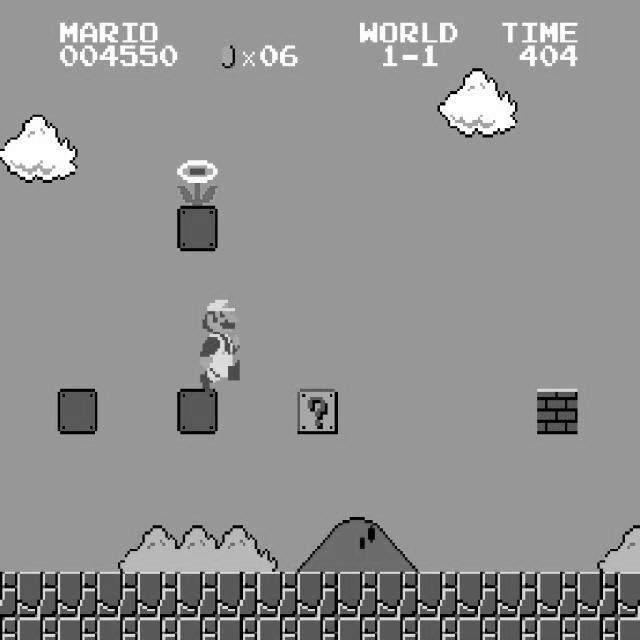1- brick_block: (537, 388, 578, 434)
13- mystery_block: (297, 388, 338, 434)
17- undestructible_block: (17, 572, 58, 618), (57, 572, 98, 618), (97, 572, 138, 618), (137, 572, 178, 618), (177, 572, 218, 618), (217, 572, 258, 618), (257, 572, 298, 618), (297, 572, 338, 618), (337, 572, 378, 618), (377, 572, 418, 618), (417, 572, 458, 618), (457, 572, 498, 618), (497, 572, 538, 618), (537, 572, 578, 618), (577, 572, 618, 618), (618, 572, 640, 618), (17, 617, 58, 640), (57, 617, 98, 640), (97, 617, 138, 640), (137, 617, 178, 640), (177, 617, 218, 640), (217, 617, 258, 640), (257, 617, 298, 640), (297, 617, 338, 640), (337, 617, 378, 640), (377, 617, 418, 640), (417, 617, 458, 640), (457, 617, 498, 640), (497, 617, 538, 640), (537, 617, 578, 640), (577, 617, 618, 640), (0, 571, 17, 617), (618, 617, 640, 640), (0, 617, 17, 639)
3- empty_block: (57, 388, 98, 434), (177, 388, 218, 434), (177, 206, 218, 251)
4- fire_mario: (197, 298, 240, 392)
6- flower: (175, 157, 218, 206)
